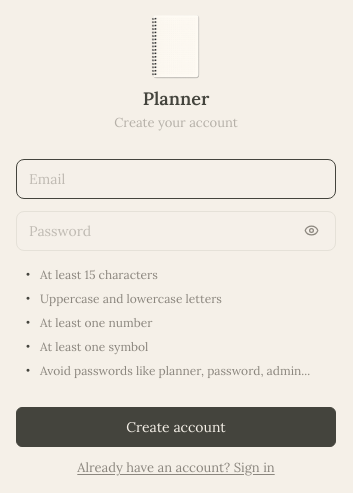
RegisterPage › marks password requirements as they are met
The image size is (353, 493).
Type "Correct-horse-battery-staple-2" into the password field with placeholder "Password" at (160, 230), box 29,220 -> 291,240
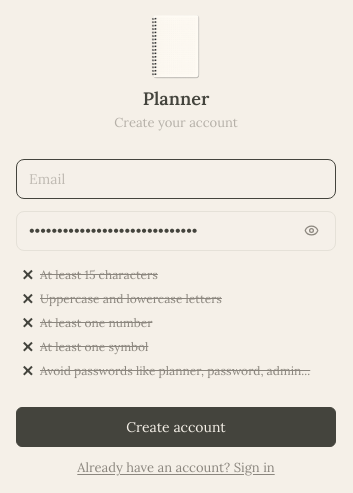
Now the list item named "At least 15 characters: not met" shows "×", box 21,258 -> 35,290
Now the list item named "Avoid passwords like planner, password, admin...: not met" shows "×", box 21,354 -> 35,386
Now the list item with aria-label "Uppercase and lowercase letters: met" shows "×", box 21,282 -> 35,314
Type "planner-planner-planner" into the password field with placeholder "Password" at (160, 230), box 29,220 -> 291,240
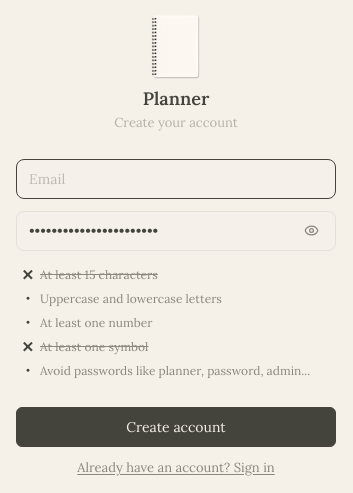
Now the list item with aria-label "Avoid passwords like planner, password, admin...: not met" shows "•", box 26,364 -> 30,376
